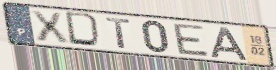0: (140, 20, 171, 54)
A: (209, 26, 249, 61)
D: (64, 10, 105, 50)
E: (171, 23, 211, 58)
T: (104, 16, 133, 51)
X: (28, 9, 72, 45)
